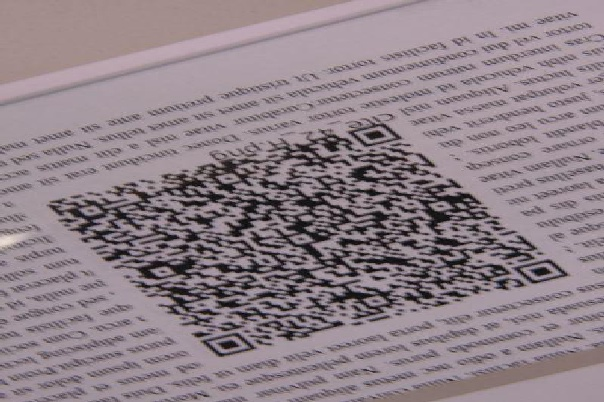code: (48, 124, 569, 357)
